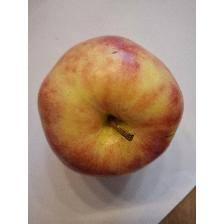Apfel: (36, 31, 187, 178)
